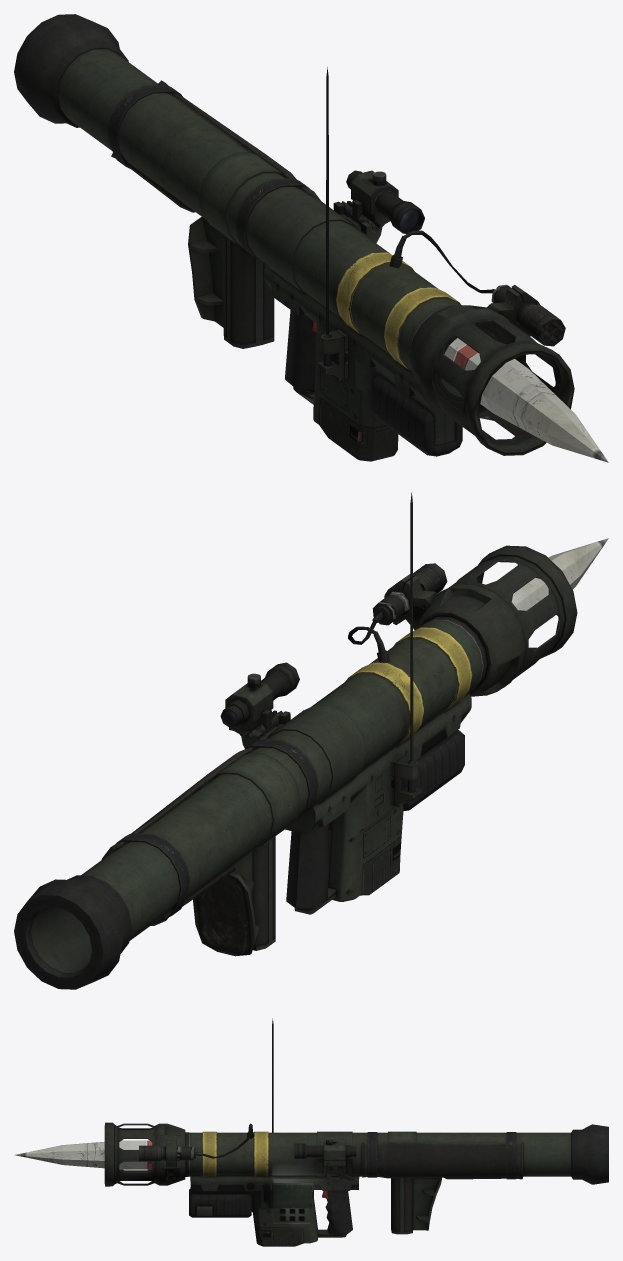
Rendered from Rocket_Launcher_1 (1).fbx.
The picture shows the model from 3 angles, top to bottom: view 1: azimuth 30°, elevation 25°; view 2: azimuth 150°, elevation 25°; view 3: azimuth 270°, elevation 25°; orthographic projection. The views are drawn at different scales.
Parts seen in each view (by area): view 1: Launcher, Rocket; view 2: Launcher, Rocket; view 3: Launcher, Rocket.
Boxes of the visible parts, bbox=[...] form: Launcher: bbox=[14, 14, 574, 461]; Rocket: bbox=[444, 338, 608, 462]; Launcher: bbox=[14, 492, 577, 989]; Rocket: bbox=[511, 538, 608, 610]; Launcher: bbox=[104, 1018, 608, 1246]; Rocket: bbox=[14, 1140, 152, 1169].
Bounding box in the file's own units: 0.2492 × 0.7288 × 1.85.
